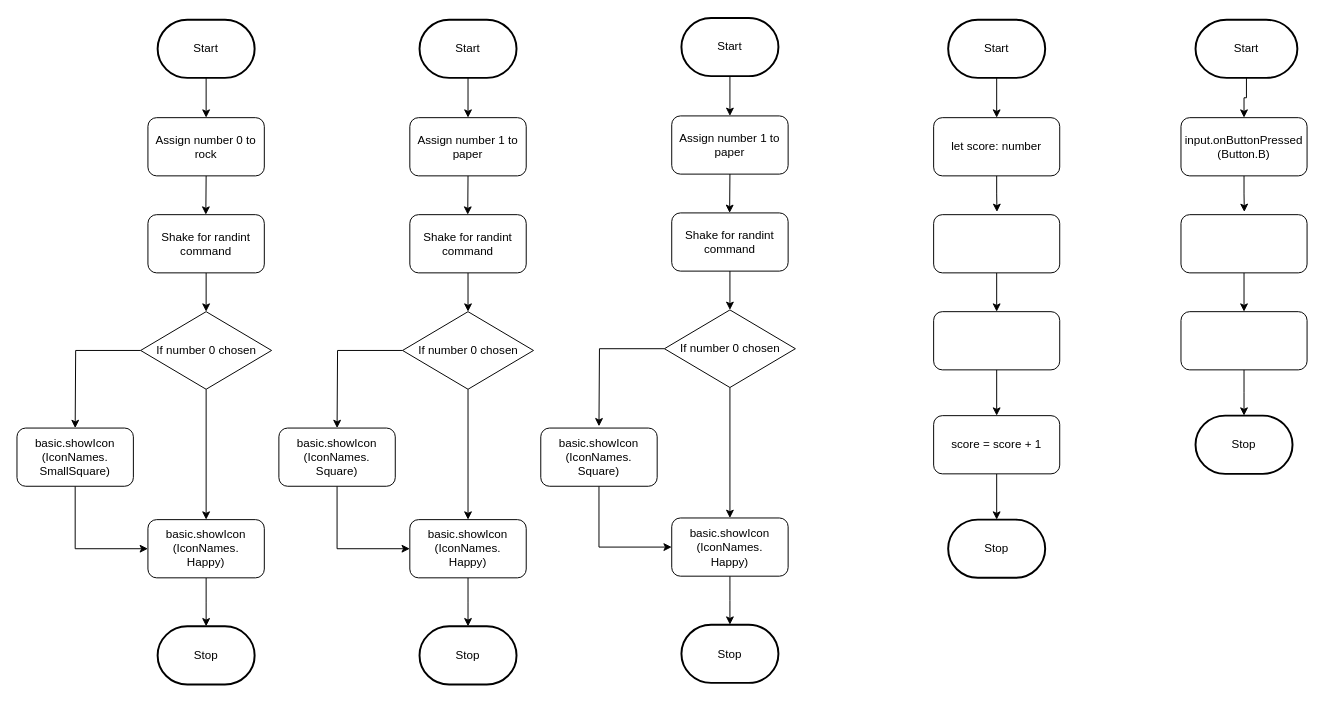
Some shapes in this 1324 by 702 pixel diagram are drawn without their labels. Here are the shapes that lost their labels. From the top down, the centre of each, then its label:
At pixel 996 243: "score = 0".
At pixel 1243 243: "basic.showString ('Score: ')".
At pixel 996 340: "input.onButtonPressed (Button.A)".
At pixel 1243 340: "basic.showNumber (score)".
